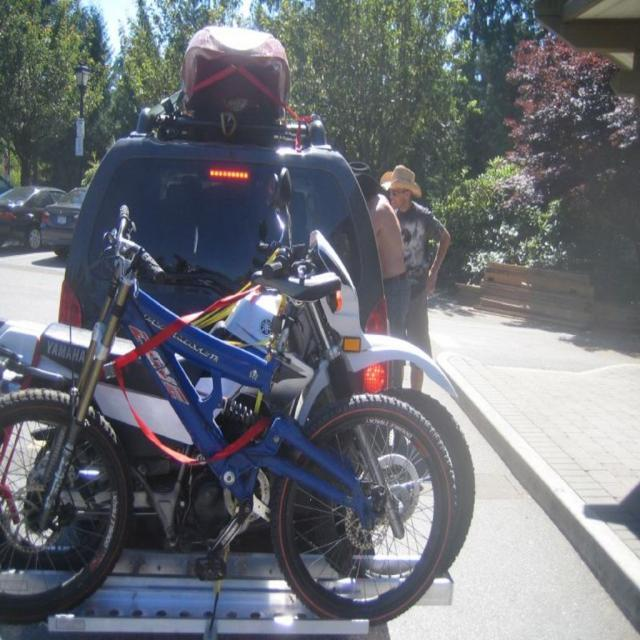bus: (0, 104, 484, 640)
